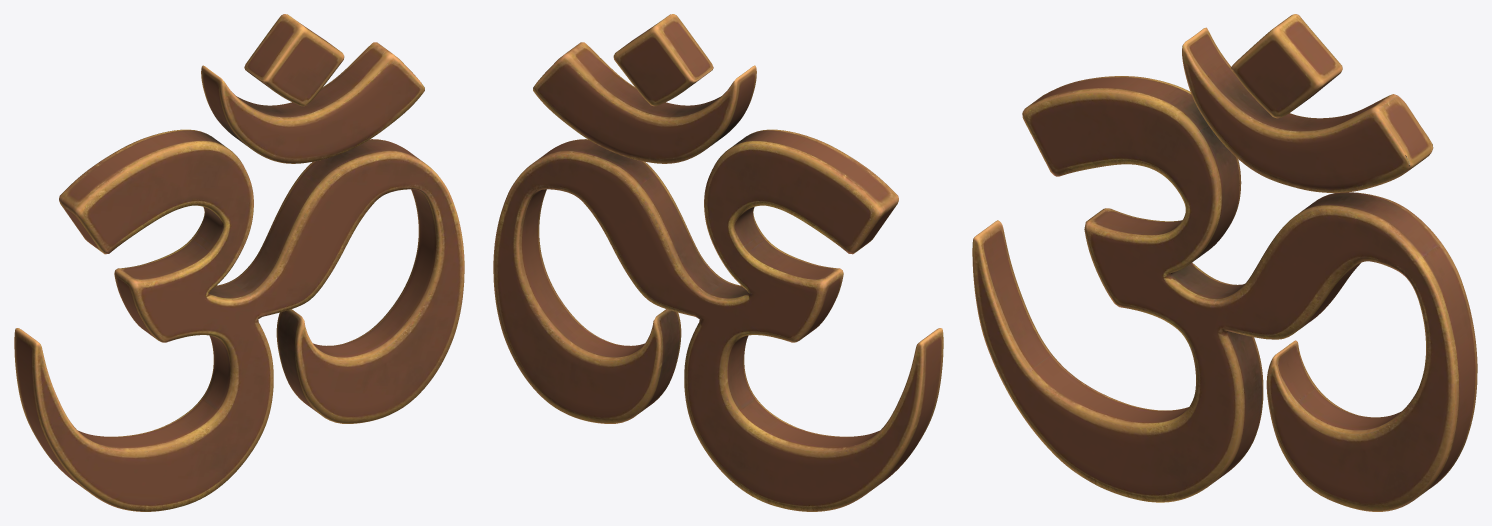
Rendered from om_symbol-transformed.glb.
3 renders of one model, left to right at view 1: azimuth 30°, elevation 25°; view 2: azimuth 150°, elevation 25°; view 3: azimuth 330°, elevation 25°, orthographic. The views are drawn at different scales.
Parts seen in each view (by area): view 1: Object_9; view 2: Object_9; view 3: Object_9.
Boxes of the visible parts, box(x1,y1,x2,y2) form: Object_9: box(14, 14, 464, 511); Object_9: box(493, 14, 943, 511); Object_9: box(972, 14, 1477, 511).
Size of the model in its own units: 13.67 by 13.68 by 1.19.
1 material, 1 textured.
